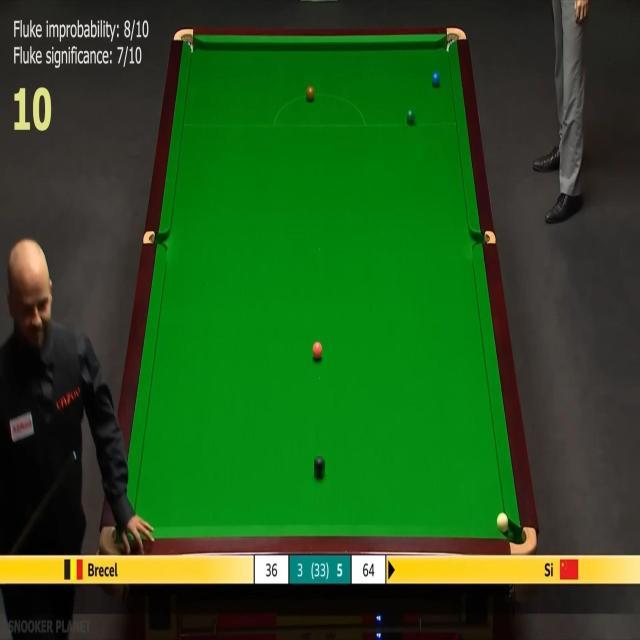Ball: (496, 512, 508, 533), (314, 456, 325, 476), (312, 342, 322, 358), (432, 71, 440, 86), (408, 110, 416, 124), (306, 86, 314, 100)
